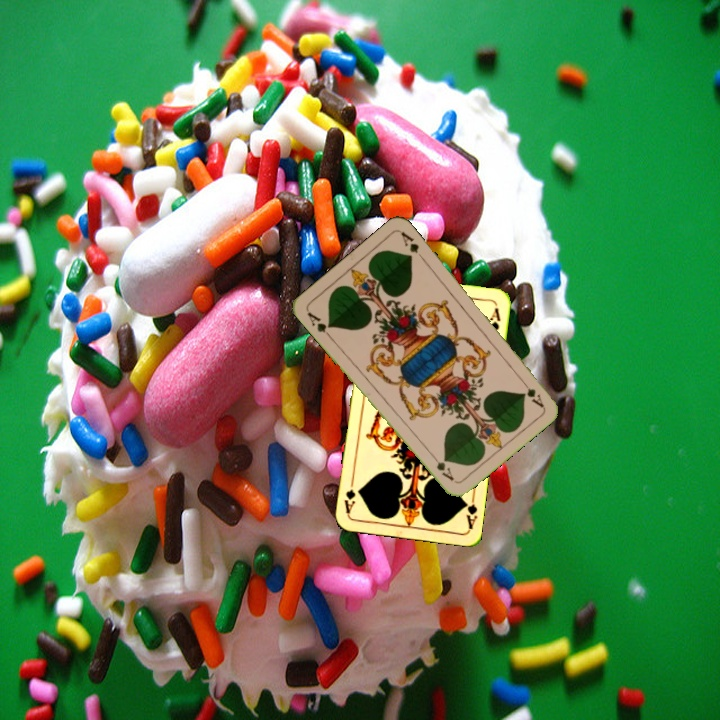GA: (517, 375, 547, 410), (303, 308, 334, 341), (461, 490, 480, 531)
